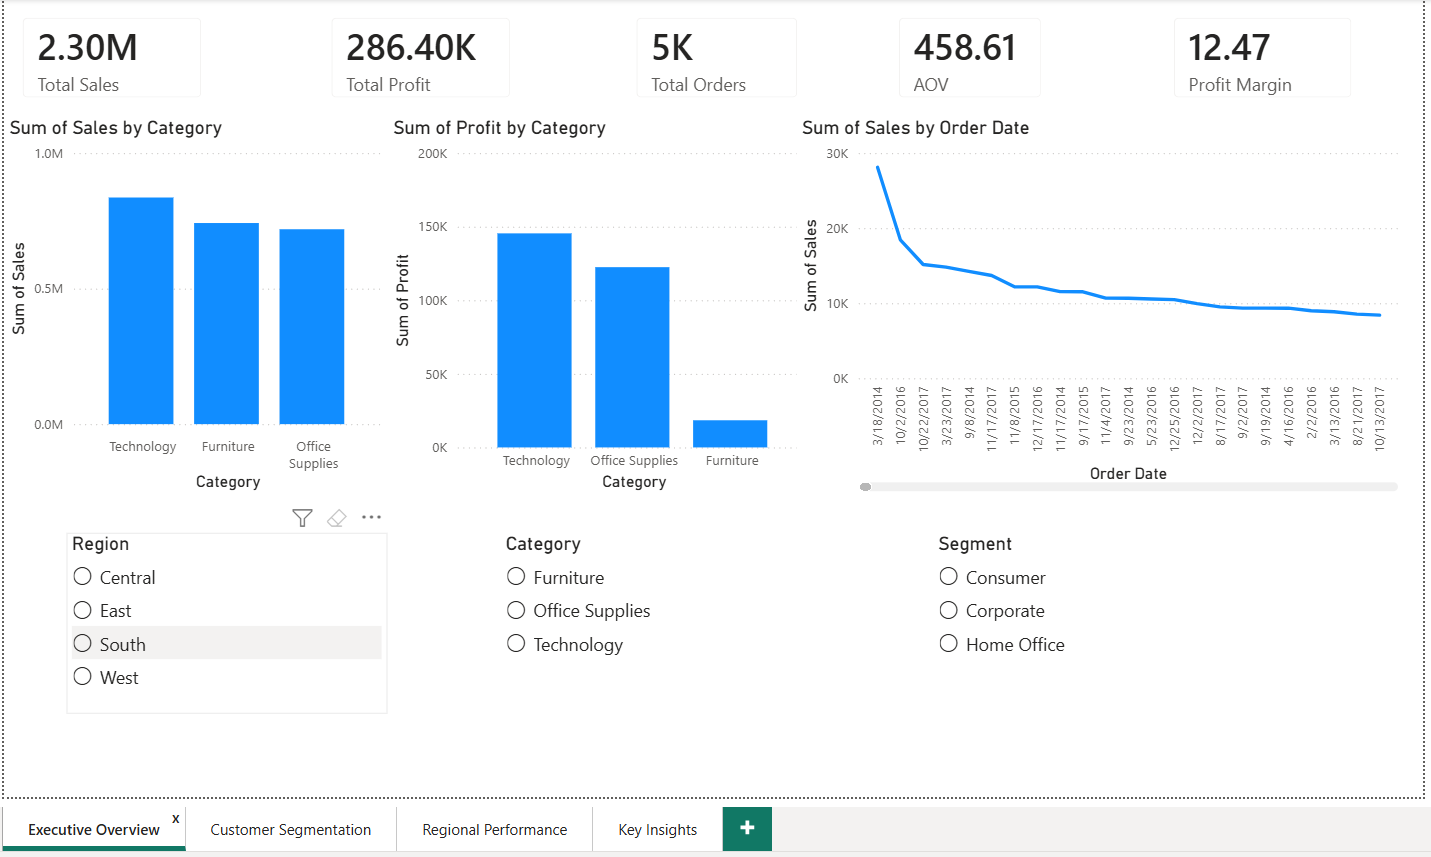

Layout of this report page (visuals, bound fields, positions):
{"tool":"powerbi","page":{"name":"Executive Overview","canvas":[1280,720],"ordinal":0},"visuals":[{"type":"cardVisual","fields":{"Data":["superstore.Total Sales"]},"box":[0,0,195.7,106.4],"z":0},{"type":"cardVisual","fields":{"Data":["superstore.Total Profit"]},"box":[278.8,0,195.7,106.4],"z":1},{"type":"cardVisual","fields":{"Data":["superstore.Total Orders"]},"box":[553.9,0,179.8,106.4],"z":2},{"type":"cardVisual","fields":{"Data":["superstore.AOV"]},"box":[789.9,0,162.6,106.4],"z":3},{"type":"cardVisual","fields":{"Data":["superstore.Profit Margin"]},"box":[1038.2,0,194.4,106.4],"z":4},{"type":"clusteredColumnChart","fields":{"Category":["superstore.Category"],"Y":["Sum(superstore.Sales)"]},"box":[0,106.4,346.1,342.4],"z":5},{"type":"clusteredColumnChart","fields":{"Category":["superstore.Category"],"Y":["Sum(superstore.Profit)"]},"box":[346.1,106.4,386.4,342.4],"z":6},{"type":"lineChart","fields":{"Y":["Sum(superstore.Sales)"],"Category":["superstore.Order Date"]},"box":[714.9,105.7,547.5,343.1],"z":7},{"type":"listSlicer","fields":{"Values":["superstore.Region"]},"box":[56.3,481.8,289.8,162.6],"z":8},{"type":"listSlicer","fields":{"Values":["superstore.Segment"]},"box":[837.6,481.8,368.1,149.2],"z":9},{"type":"listSlicer","fields":{"Values":["superstore.Category"]},"box":[447.6,481.8,284.9,128.4],"z":10}]}

Visuals, with their boxes on the page's 1280x720 design canvas (x1, y1, x2, y2). These are canvas units, not pixel positions in the 1431x857 screenshot, which may show the page scaled, cropped or inside an application window:
cardVisual - superstore.Total Sales: {"left": 0, "top": 0, "right": 196, "bottom": 106}
cardVisual - superstore.Total Profit: {"left": 279, "top": 0, "right": 474, "bottom": 106}
cardVisual - superstore.Total Orders: {"left": 554, "top": 0, "right": 734, "bottom": 106}
cardVisual - superstore.AOV: {"left": 790, "top": 0, "right": 952, "bottom": 106}
cardVisual - superstore.Profit Margin: {"left": 1038, "top": 0, "right": 1233, "bottom": 106}
clusteredColumnChart - superstore.Category x Sum(superstore.Sales): {"left": 0, "top": 106, "right": 346, "bottom": 449}
clusteredColumnChart - superstore.Category x Sum(superstore.Profit): {"left": 346, "top": 106, "right": 732, "bottom": 449}
lineChart - Sum(superstore.Sales) x superstore.Order Date: {"left": 715, "top": 106, "right": 1262, "bottom": 449}
listSlicer - superstore.Region: {"left": 56, "top": 482, "right": 346, "bottom": 644}
listSlicer - superstore.Segment: {"left": 838, "top": 482, "right": 1206, "bottom": 631}
listSlicer - superstore.Category: {"left": 448, "top": 482, "right": 732, "bottom": 610}
